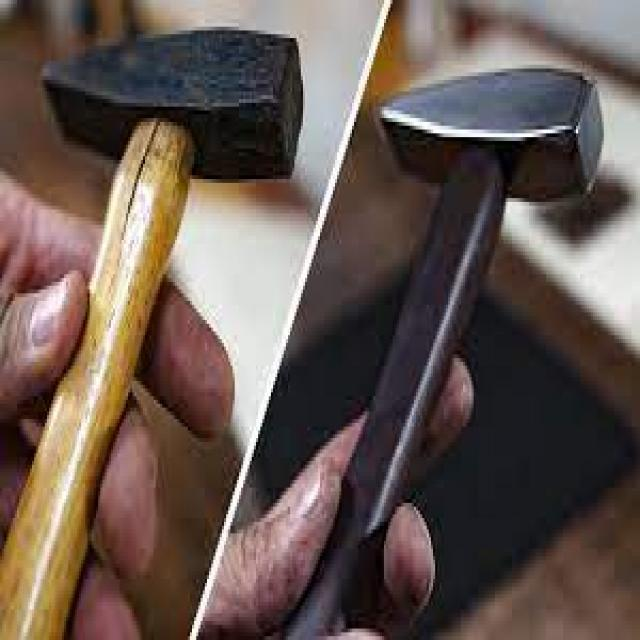hammer: (283, 42, 622, 640), (0, 11, 311, 639)
